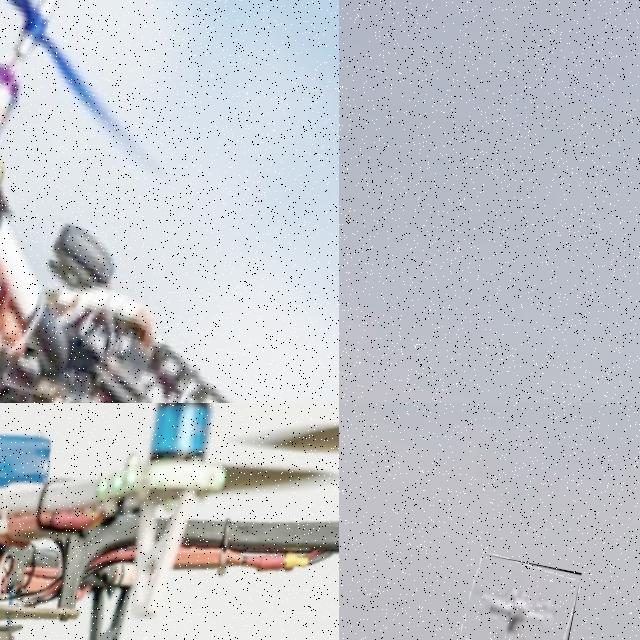0: (460, 553, 581, 640)
drone: (0, 0, 339, 403), (0, 403, 339, 640)
